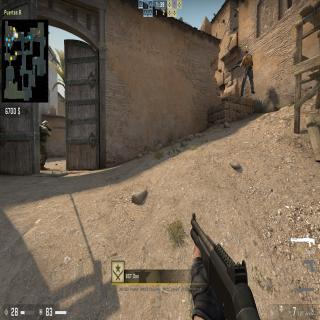CT-Head: (41, 119, 50, 131)
T-Head: (243, 49, 249, 57)
